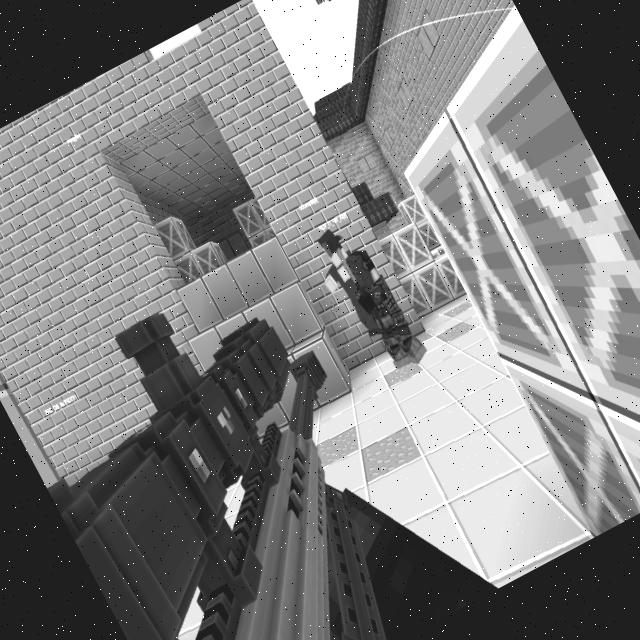Head: (342, 244, 382, 290), (314, 226, 348, 264)
Player: (334, 241, 430, 373), (301, 220, 394, 346)
